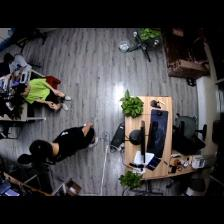normal: (28, 122, 98, 163), (17, 81, 72, 114), (1, 49, 32, 81)
